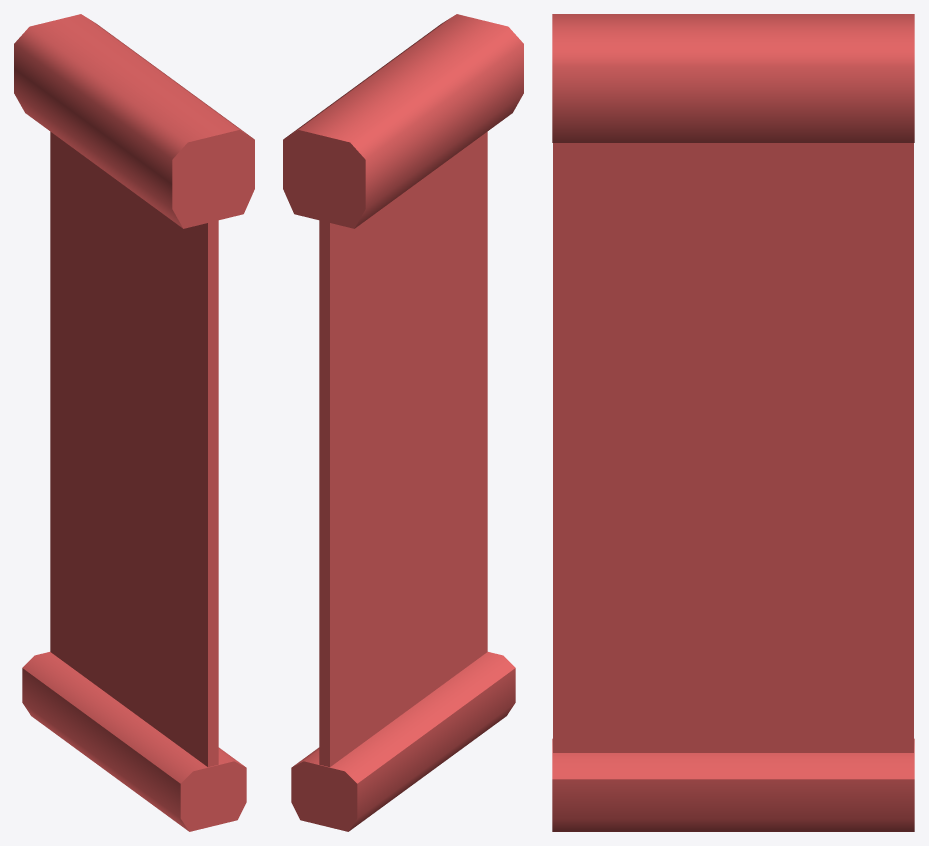
The model's file is lavaDing_13.fbx.
3 renders of one model, left to right at view 1: azimuth 30°, elevation 25°; view 2: azimuth 150°, elevation 25°; view 3: azimuth 270°, elevation 25°, orthographic. The views are drawn at different scales.
Parts seen in each view (by area): view 1: Cube.032, Cube.033, Cube.034; view 2: Cube.032, Cube.033, Cube.034; view 3: Cube.032, Cube.033, Cube.034.
Boxes of the visible parts, x1,y1,x2,y2 form: Cube.032: (50,131,218,767); Cube.033: (14,14,254,228); Cube.034: (22,652,246,831); Cube.032: (319,131,487,767); Cube.033: (283,14,523,228); Cube.034: (291,652,515,831); Cube.032: (553,143,913,752); Cube.033: (552,14,914,142); Cube.034: (552,738,914,831).
Size of the model in its own units: 27.22 by 218 by 90.48.
